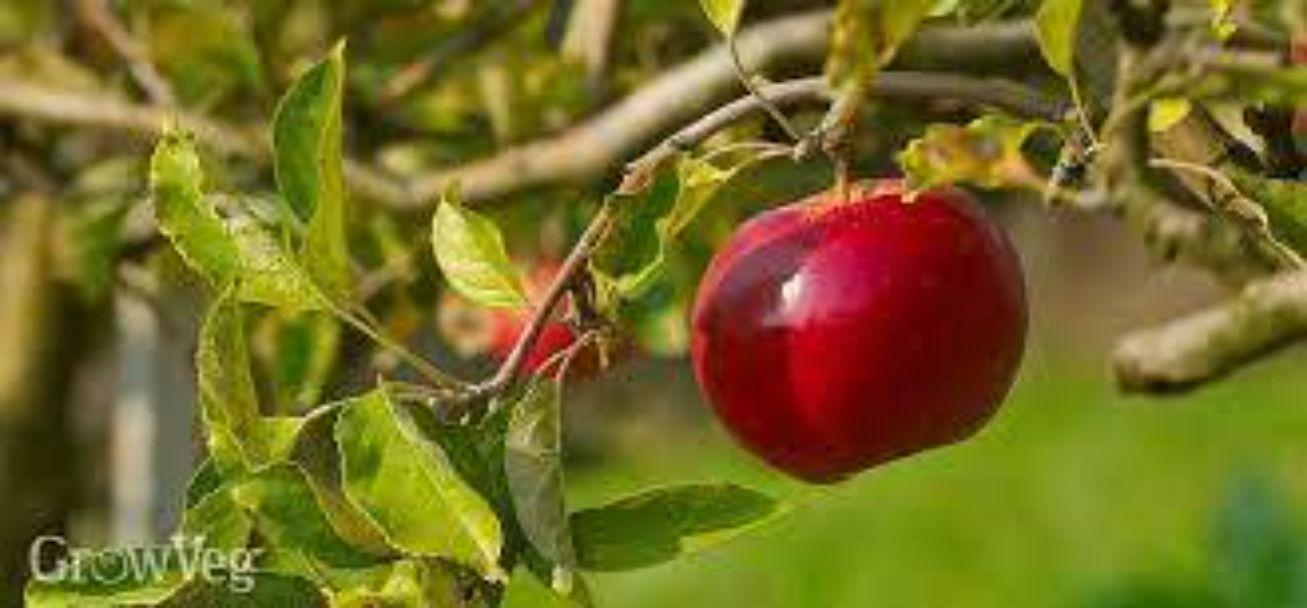HEALTHY: (680, 134, 1058, 507)
